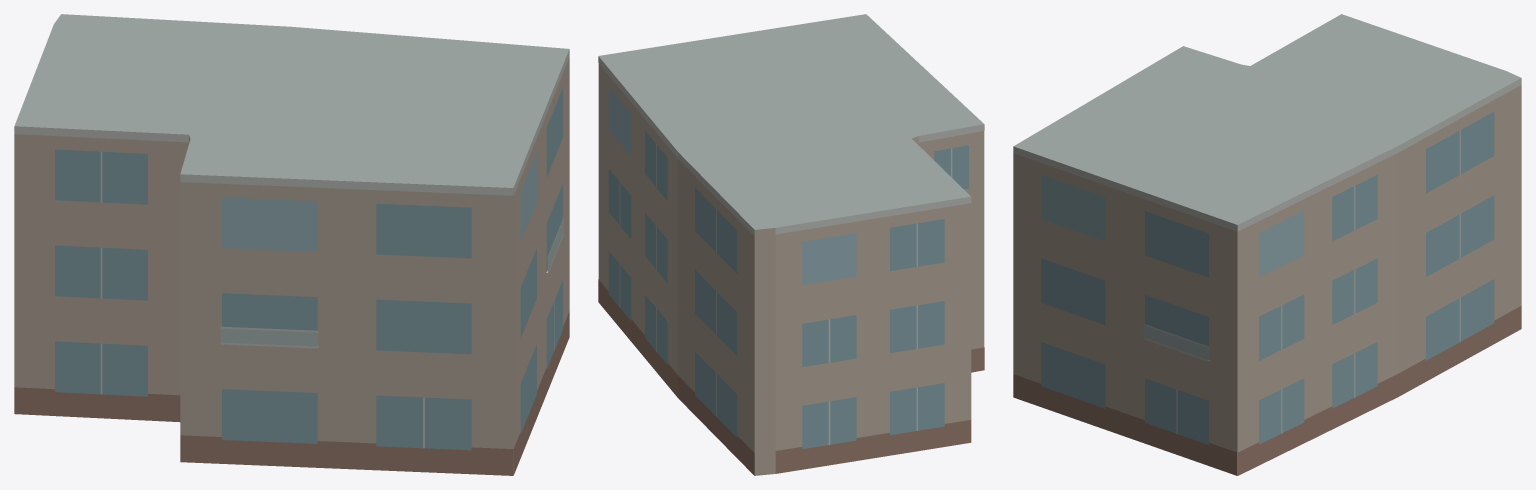
The model's file is survey-upis-32672713.glb.
3 views of the same model, side by side, from view 1: azimuth 30°, elevation 25°; view 2: azimuth 150°, elevation 25°; view 3: azimuth 270°, elevation 25° (orthographic). The views are drawn at different scales.
Parts seen in each view (by area): view 1: survey-upis-32672713.tmp; view 2: survey-upis-32672713.tmp; view 3: survey-upis-32672713.tmp.
Boxes of the visible parts, left/top/right/bottom form: survey-upis-32672713.tmp: left=14, top=14, right=569, bottom=475; survey-upis-32672713.tmp: left=598, top=14, right=984, bottom=475; survey-upis-32672713.tmp: left=1013, top=14, right=1521, bottom=475.
Bounding box in the file's own units: 16.22 × 9 × 16.53.
